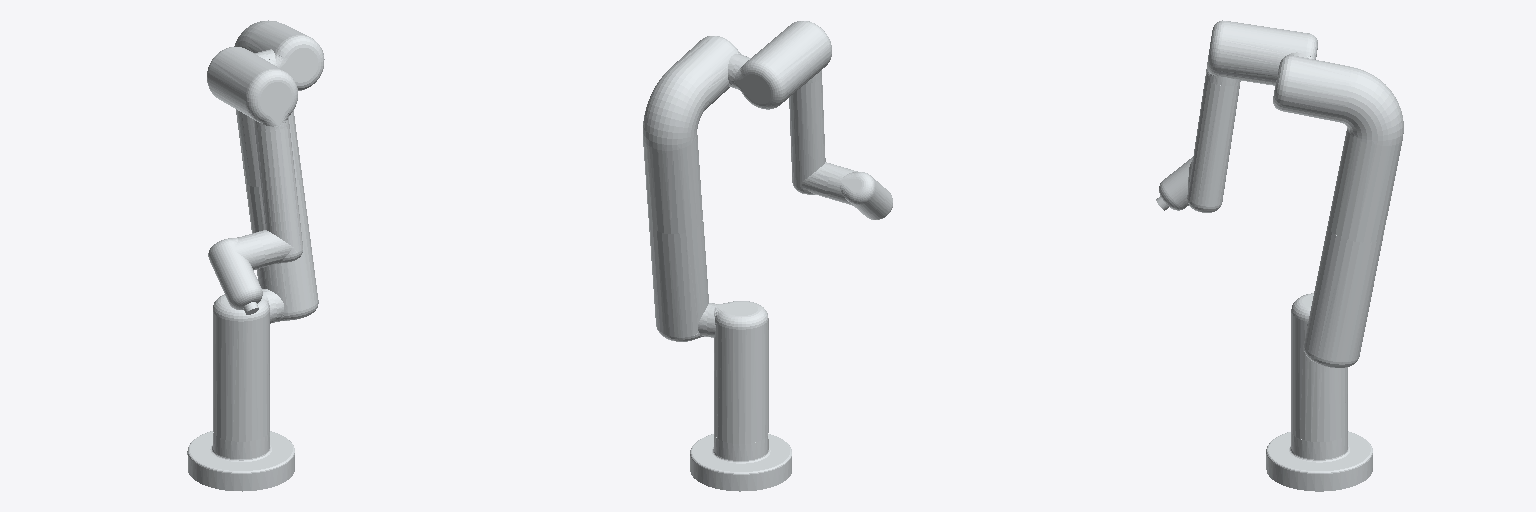
URDF robot description (robot):
<?xml version="1.0" encoding="utf-8" ?>
<!-- This URDF was automatically created by SolidWorks to URDF Exporter! Originally created by [author] ([email redacted]) 
     Commit Version: 1.5.1-0-g916b5db  Build Version: 1.5.7152.31018
     For more information, please see http://wiki.ros.org/sw_urdf_exporter -->
<robot name="robot">
    <link name="base_link">
        
<inertial>
            <origin xyz="-1.1972E-34 0.02164 7.822E-19" rpy="0 0 0" />
            <mass value="1.8374" />
            <inertia ixx="0.0025933" ixy="-5.3289E-36" ixz="-8.8442E-36" iyy="0.0043402" iyz="-3.3309E-20" izz="0.0025933" />
        </inertial>

        <visual>
            <origin xyz="0 0 0" rpy="0 0 0" />
            <geometry>
                <mesh filename="package://robot/meshes/base_link.STL" />
            </geometry>
            <material name="">
                <color rgba="0.89804 0.91765 0.92941 1" />
            </material>
        </visual>
        <collision>
            <origin xyz="0 0 0" rpy="0 0 0" />
            <geometry>
                <mesh filename="package://robot/meshes/base_link.STL" />
            </geometry>
        </collision>
    </link>
    <link name="link1">
        
<inertial>
            <origin xyz="0.00061423 0.1001 -7.8675E-09" rpy="0 0 0" />
            <mass value="2.7255" />
            <inertia ixx="0.010091" ixy="-0.00012814" ixz="-9.1718E-10" iyy="0.0022058" iyz="-1.5836E-09" izz="0.010151" />
        </inertial>

        <visual>
            <origin xyz="0 0 0" rpy="0 0 0" />
            <geometry>
                <mesh filename="package://robot/meshes/link1.STL" />
            </geometry>
            <material name="">
                <color rgba="0.89804 0.91765 0.92941 1" />
            </material>
        </visual>
        <collision>
            <origin xyz="0 0 0" rpy="0 0 0" />
            <geometry>
                <mesh filename="package://robot/meshes/link1.STL" />
            </geometry>
        </collision>
    </link>
    <joint name="joint1" type="continuous">
        <origin xyz="0 0 0.06" rpy="1.5708 0 0.21073" />
        <parent link="base_link" />
        <child link="link1" />
        <axis xyz="0 1 0" />
    </joint>
    <link name="link2">
        
<inertial>
            <origin xyz="-0.040667 -0.074901 -7.6586E-09" rpy="0 0 0" />
            <mass value="2.7255" />
            <inertia ixx="0.010091" ixy="-0.00012815" ixz="1.276E-10" iyy="0.0022058" iyz="6.9045E-10" izz="0.010151" />
        </inertial>

        <visual>
            <origin xyz="0 0 0" rpy="0 0 0" />
            <geometry>
                <mesh filename="package://robot/meshes/link2.STL" />
            </geometry>
            <material name="">
                <color rgba="0.89804 0.91765 0.92941 1" />
            </material>
        </visual>
        <collision>
            <origin xyz="0 0 0" rpy="0 0 0" />
            <geometry>
                <mesh filename="package://robot/meshes/link2.STL" />
            </geometry>
        </collision>
    </link>
    <joint name="joint2" type="continuous">
        <origin xyz="0.048719 0.175 0" rpy="0.18585 0 -3.1416" />
        <parent link="link1" />
        <child link="link2" />
        <axis xyz="1 0 0" />
    </joint>
    <link name="link3">
        
<inertial>
            <origin xyz="-0.00037429 0.13125 0.033665" rpy="0 0 0" />
            <mass value="4.47" />
            <inertia ixx="0.031917" ixy="0.00010051" ixz="0.00015564" iyy="0.013008" iyz="-0.0090516" izz="0.022571" />
        </inertial>

        <visual>
            <origin xyz="0 0 0" rpy="0 0 0" />
            <geometry>
                <mesh filename="package://robot/meshes/link3.STL" />
            </geometry>
            <material name="">
                <color rgba="0.89804 0.91765 0.92941 1" />
            </material>
        </visual>
        <collision>
            <origin xyz="0 0 0" rpy="0 0 0" />
            <geometry>
                <mesh filename="package://robot/meshes/link3.STL" />
            </geometry>
        </collision>
    </link>
    <joint name="joint3" type="continuous">
        <origin xyz="-0.041281 -0.1837 0" rpy="0 -0.27626 -3.1416" />
        <parent link="link2" />
        <child link="link3" />
        <axis xyz="0 1 0" />
    </joint>
    <link name="link4">
        
<inertial>
            <origin xyz="-0.058475 0.05 0.00081343" rpy="0 0 0" />
            <mass value="2.058" />
            <inertia ixx="0.004593" ixy="8.6485E-05" ixz="1.3447E-06" iyy="0.0016966" iyz="-8.6472E-05" izz="0.0045929" />
        </inertial>

        <visual>
            <origin xyz="0 0 0" rpy="0 0 0" />
            <geometry>
                <mesh filename="package://robot/meshes/link4.STL" />
            </geometry>
            <material name="">
                <color rgba="0.89804 0.91765 0.92941 1" />
            </material>
        </visual>
        <collision>
            <origin xyz="0 0 0" rpy="0 0 0" />
            <geometry>
                <mesh filename="package://robot/meshes/link4.STL" />
            </geometry>
        </collision>
    </link>
    <joint name="joint4" type="continuous">
        <origin xyz="-0.030712 0.1913 0.125" rpy="1.6143 0 0" />
        <parent link="link3" />
        <child link="link4" />
        <axis xyz="1 0 0" />
    </joint>
    <link name="link5">
        
<inertial>
            <origin xyz="0.0035832 0.10274 -1.2028E-07" rpy="0 0 0" />
            <mass value="1.1725" />
            <inertia ixx="0.0042609" ixy="-0.00028758" ixz="8.1052E-09" iyy="0.00047495" iyz="2.0701E-08" izz="0.0043661" />
        </inertial>

        <visual>
            <origin xyz="0 0 0" rpy="0 0 0" />
            <geometry>
                <mesh filename="package://robot/meshes/link5.STL" />
            </geometry>
            <material name="">
                <color rgba="0.89804 0.91765 0.92941 1" />
            </material>
        </visual>
        <collision>
            <origin xyz="0 0 0" rpy="0 0 0" />
            <geometry>
                <mesh filename="package://robot/meshes/link5.STL" />
            </geometry>
        </collision>
    </link>
    <joint name="joint5" type="continuous">
        <origin xyz="-0.059288 0.1 0.049181" rpy="1.5708 0 3.0915" />
        <parent link="link4" />
        <child link="link5" />
        <axis xyz="0 1 0" />
    </joint>
    <link name="link6">
        
<inertial>
            <origin xyz="-0.043141 -0.019673 -9.3691E-08" rpy="0 0 0" />
            <mass value="0.62459" />
            <inertia ixx="0.00055035" ixy="-8.4209E-05" ixz="2.3334E-09" iyy="0.00028736" iyz="4.4142E-09" izz="0.00064236" />
        </inertial>

        <visual>
            <origin xyz="0 0 0" rpy="0 0 0" />
            <geometry>
                <mesh filename="package://robot/meshes/link6.STL" />
            </geometry>
            <material name="">
                <color rgba="0.89804 0.91765 0.92941 1" />
            </material>
        </visual>
        <collision>
            <origin xyz="0 0 0" rpy="0 0 0" />
            <geometry>
                <mesh filename="package://robot/meshes/link6.STL" />
            </geometry>
        </collision>
    </link>
    <joint name="joint6" type="continuous">
        <origin xyz="0.040133 0.17082 0" rpy="-0.71838 0 3.1416" />
        <parent link="link5" />
        <child link="link6" />
        <axis xyz="1 0 0" />
    </joint>
    <link name="link7">
        
<inertial>
            <origin xyz="0 0.00095811 0" rpy="0 0 0" />
            <mass value="0.0084823" />
            <inertia ixx="2.8274E-07" ixy="4.6322E-23" ixz="-1.9852E-23" iyy="4.2412E-07" iyz="-2.647E-23" izz="2.8274E-07" />
        </inertial>

        <visual>
            <origin xyz="0 0 0" rpy="0 0 0" />
            <geometry>
                <mesh filename="package://robot/meshes/link7.STL" />
            </geometry>
            <material name="">
                <color rgba="0.89804 0.91765 0.92941 1" />
            </material>
        </visual>
        <collision>
            <origin xyz="0 0 0" rpy="0 0 0" />
            <geometry>
                <mesh filename="package://robot/meshes/link7.STL" />
            </geometry>
        </collision>
    </link>
    <joint name="joint7" type="continuous">
        <origin xyz="-0.049867 -0.079042 0" rpy="0 0.61703 -3.1416" />
        <parent link="link6" />
        <child link="link7" />
        <axis xyz="0 1 0" />
    </joint>
    
<transmission name="trans_joint1">
        <type>transmission_interface/SimpleTransmission</type>
        <joint name="joint1">
            <hardwareInterface>hardware_interface/EffortJointInterface</hardwareInterface>
        </joint>
        <actuator name="joint1_motor">
            <hardwareInterface>hardware_interface/EffortJointInterface</hardwareInterface>
            <mechanicalReduction>1</mechanicalReduction>
        </actuator>
    </transmission>
    <transmission name="trans_joint2">
        <type>transmission_interface/SimpleTransmission</type>
        <joint name="joint2">
            <hardwareInterface>hardware_interface/EffortJointInterface</hardwareInterface>
        </joint>
        <actuator name="joint2_motor">
            <hardwareInterface>hardware_interface/EffortJointInterface</hardwareInterface>
            <mechanicalReduction>1</mechanicalReduction>
        </actuator>
    </transmission>
    <transmission name="trans_joint3">
        <type>transmission_interface/SimpleTransmission</type>
        <joint name="joint3">
            <hardwareInterface>hardware_interface/EffortJointInterface</hardwareInterface>
        </joint>
        <actuator name="joint3_motor">
            <hardwareInterface>hardware_interface/EffortJointInterface</hardwareInterface>
            <mechanicalReduction>1</mechanicalReduction>
        </actuator>
    </transmission>
    <transmission name="trans_joint4">
        <type>transmission_interface/SimpleTransmission</type>
        <joint name="joint4">
            <hardwareInterface>hardware_interface/EffortJointInterface</hardwareInterface>
        </joint>
        <actuator name="joint4_motor">
            <hardwareInterface>hardware_interface/EffortJointInterface</hardwareInterface>
            <mechanicalReduction>1</mechanicalReduction>
        </actuator>
    </transmission>
    <transmission name="trans_joint5">
        <type>transmission_interface/SimpleTransmission</type>
        <joint name="joint5">
            <hardwareInterface>hardware_interface/EffortJointInterface</hardwareInterface>
        </joint>
        <actuator name="joint5_motor">
            <hardwareInterface>hardware_interface/EffortJointInterface</hardwareInterface>
            <mechanicalReduction>1</mechanicalReduction>
        </actuator>
    </transmission>
    <transmission name="trans_joint6">
        <type>transmission_interface/SimpleTransmission</type>
        <joint name="joint6">
            <hardwareInterface>hardware_interface/EffortJointInterface</hardwareInterface>
        </joint>
        <actuator name="joint6_motor">
            <hardwareInterface>hardware_interface/EffortJointInterface</hardwareInterface>
            <mechanicalReduction>1</mechanicalReduction>
        </actuator>
    </transmission>
    <transmission name="trans_joint7">
        <type>transmission_interface/SimpleTransmission</type>
        <joint name="joint7">
            <hardwareInterface>hardware_interface/EffortJointInterface</hardwareInterface>
        </joint>
        <actuator name="joint7_motor">
            <hardwareInterface>hardware_interface/EffortJointInterface</hardwareInterface>
            <mechanicalReduction>1</mechanicalReduction>
        </actuator>
    </transmission>
    <gazebo>
        <plugin name="gazebo_ros_control" filename="libgazebo_ros_control.so">
            <robotNamespace>/</robotNamespace>
        </plugin>
    </gazebo>
</robot>

--- What the picture shows (computed from the rendered views, not written in the file) ---
3 views of the same robot in one strip: view 1: azimuth 30°, elevation 25°; view 2: azimuth 150°, elevation 25°; view 3: azimuth 270°, elevation 25° (orthographic).
Model robot with 8 links and 7 joints (7 continuous), rooted at base_link, posed all joints at 0.
Links seen in each view (by area): view 1: link1, base_link, link4, link5, link3, link2, link6; view 2: link3, link1, link2, link4, base_link, link5, link6; view 3: link3, link2, link1, base_link, link4, link5, link6.
Link boxes in pixels (<box>): link1: <box>213,290,276,441</box>; base_link: <box>187,431,294,491</box>; link4: <box>207,47,297,130</box>; link5: <box>252,124,302,267</box>; link3: <box>234,20,324,186</box>; link2: <box>245,177,318,322</box>; link6: <box>208,234,264,309</box>; link3: <box>643,36,746,233</box>; link1: <box>707,301,768,443</box>; link2: <box>649,220,713,341</box>; link4: <box>731,21,831,109</box>; base_link: <box>690,434,791,491</box>; link5: <box>789,77,837,197</box>; link6: <box>827,166,892,219</box>; link3: <box>1273,55,1403,242</box>; link2: <box>1304,226,1383,367</box>; link1: <box>1291,293,1347,441</box>; base_link: <box>1266,431,1372,491</box>; link4: <box>1205,20,1317,85</box>; link5: <box>1187,77,1239,212</box>; link6: <box>1159,157,1192,210</box>.
Size in the robot's own frame: 0.2658 by 0.3478 by 0.6757 metres.
Meshes: 8 distinct files referenced, 8 mesh visuals loaded (8 binary STL).